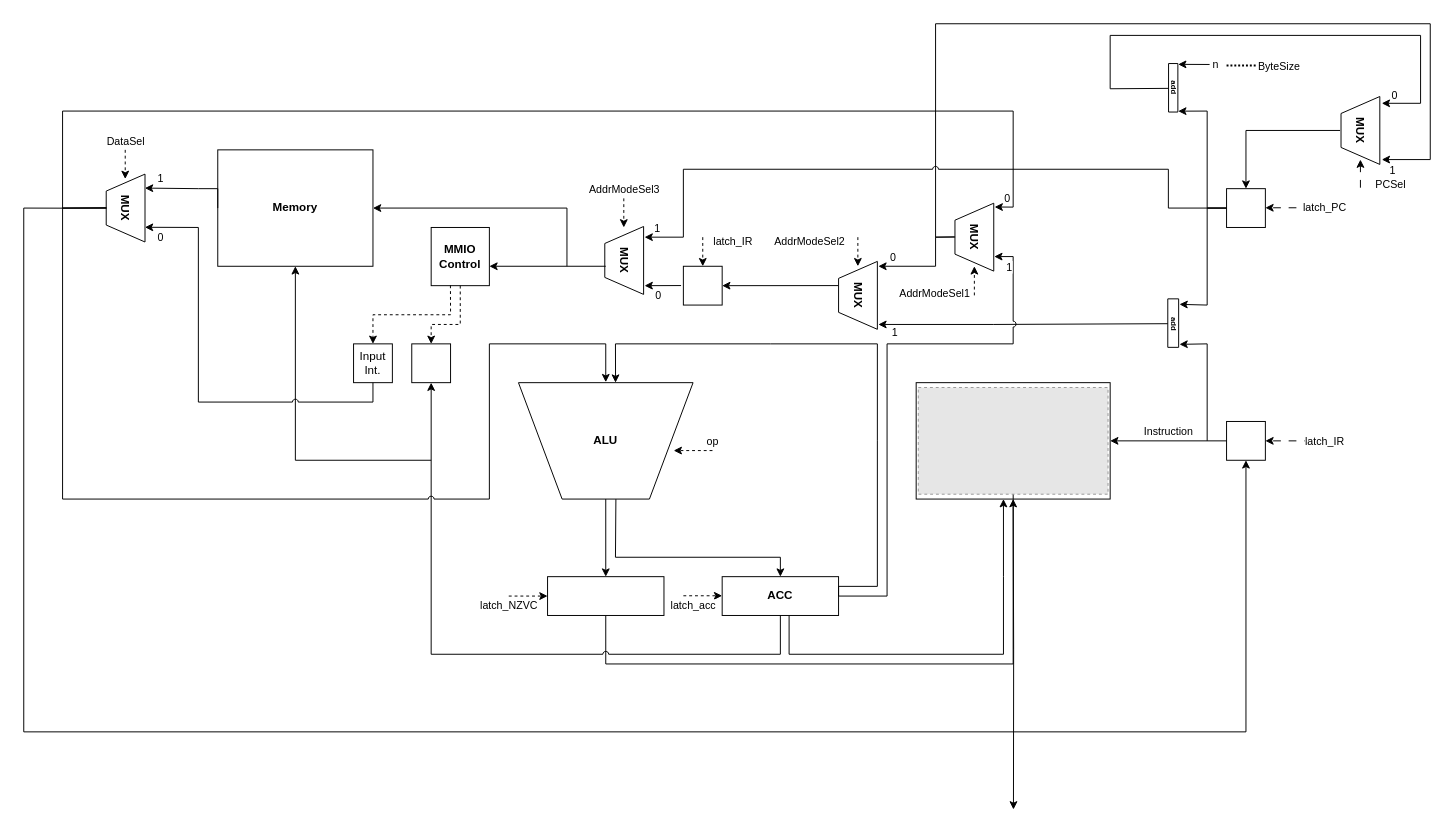
Image size: 1455x834. Some labels were removed from this diagram. Grey dashed boxes stand in for pictures. Here are the shapes that lost their labels. From the top down, the centre of each, then its label:
point 1245,207: PC
point 702,285: AR
point 431,363: Output Int.
point 1245,440: IR
point 605,595: NZVC
